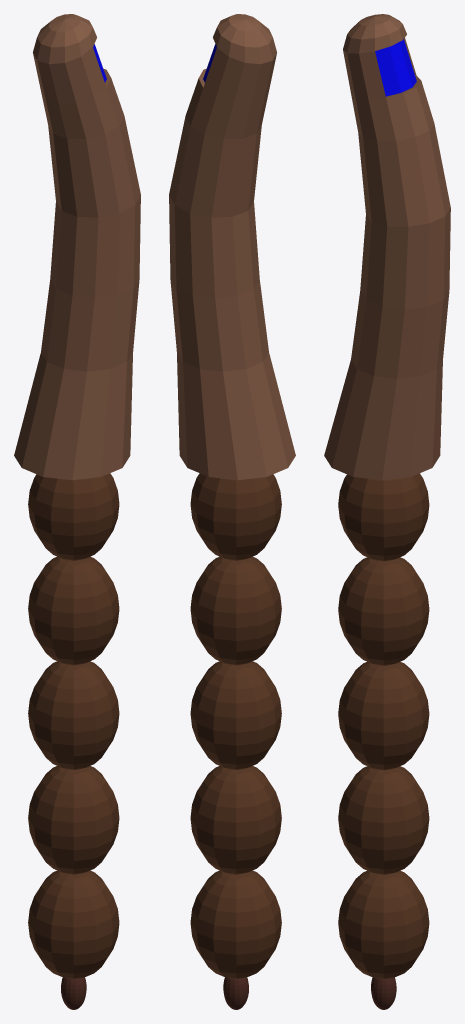
File: Wand 246.glb
3 renders of one model, left to right at view 1: azimuth 30°, elevation 25°; view 2: azimuth 150°, elevation 25°; view 3: azimuth 330°, elevation 25°, orthographic.
Visible parts, largest first — view 1: GeneratedWand; view 2: GeneratedWand; view 3: GeneratedWand.
Part boxes in pixels (x1,y1,x2,y2): GeneratedWand: (14, 14, 140, 1009); GeneratedWand: (169, 14, 295, 1009); GeneratedWand: (324, 14, 450, 1009).
Size of the model in its own units: 0.0644 by 0.5377 by 0.0572.
